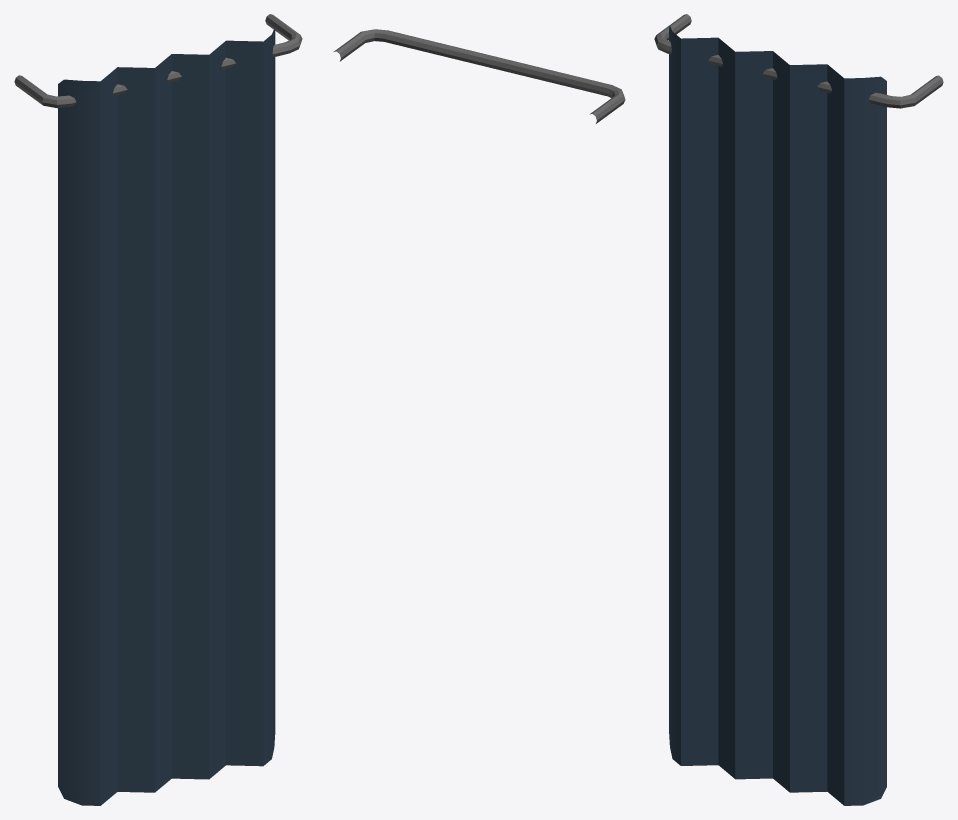
Rendered from curtains.glb.
3 renders of one model, left to right at view 1: azimuth 30°, elevation 25°; view 2: azimuth 150°, elevation 25°; view 3: azimuth 330°, elevation 25°, orthographic. The views are drawn at different scales.
Parts seen in each view (by area): view 1: Curtains_Single; view 2: Curtains_Single; view 3: Curtains_Single.
Part boxes in pixels (bbox=[...]): Curtains_Single: bbox=[14, 14, 302, 805]; Curtains_Single: bbox=[333, 29, 625, 123]; Curtains_Single: bbox=[654, 14, 943, 805].
Bounding box in the file's own units: 1.63 × 4.34 × 0.4764.
